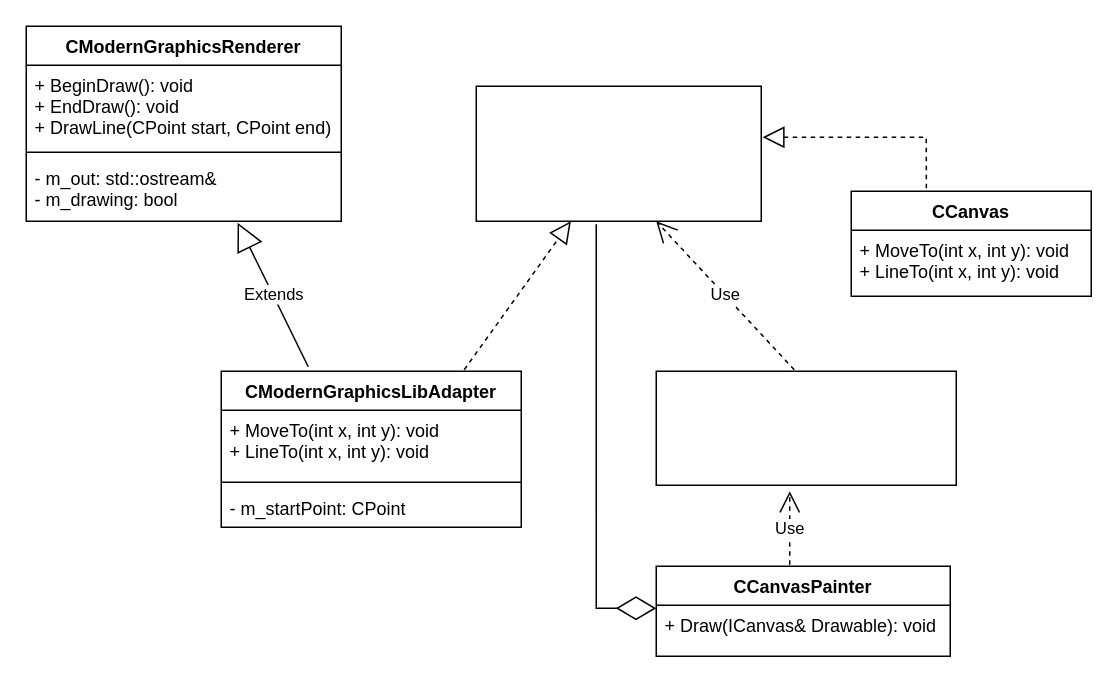
Image size: 1118x687. Some labels were removed from this diagram. Each missing label, with the centre of its shape:
<<Interface>> ICanvas + MoveTo(int x, int y): void + LineTo(int x, int y): void: pixel 618 153
<<Interface>> ICanvasDrawable + Draw(ICanvas& Drawable): void: pixel 805 427
